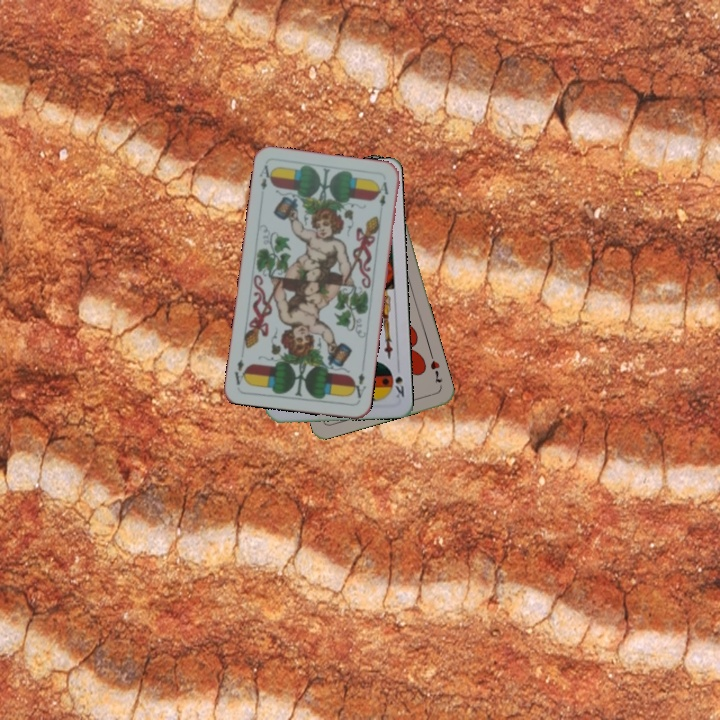EA: (348, 368, 368, 401), (255, 161, 275, 192)
H7: (426, 356, 445, 385)
SK: (391, 372, 407, 400)
